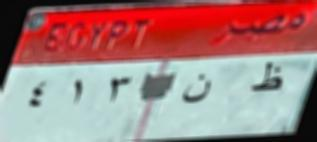1: (66, 73, 92, 110)
3: (98, 70, 140, 109)
4: (20, 77, 55, 116)
Thaa: (250, 60, 290, 99)
noon: (180, 69, 220, 117)
